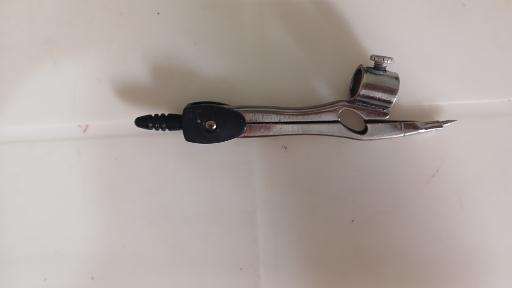Compass: (134, 56, 459, 145)
